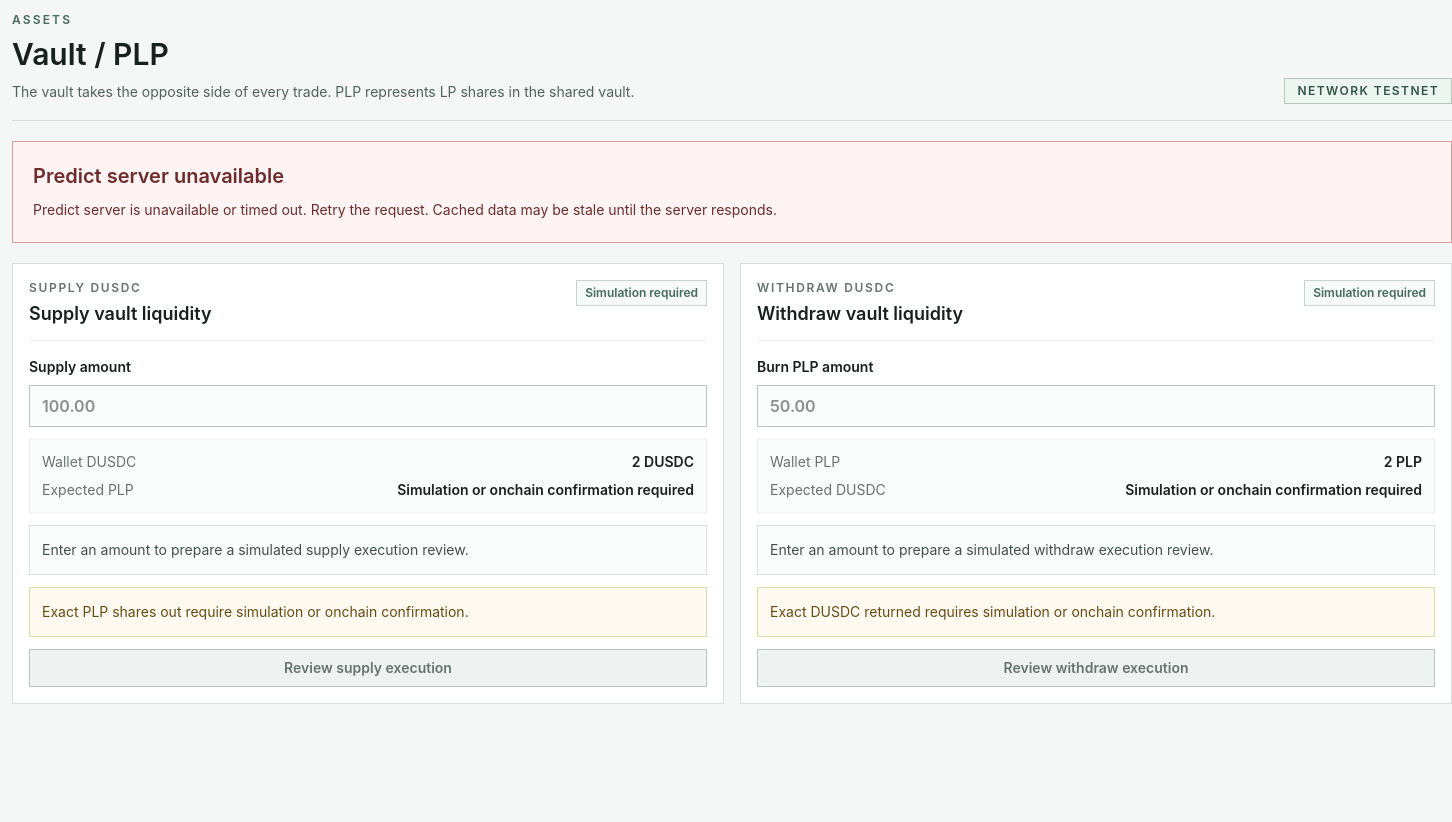
Scenario: VaultPage › blocks LP execution review when vault state is missing
Expected: the heading "Predict server unavailable" is shown, [33,164,284,188]
Type "1.5" into the field labelled "Supply amount" at (368, 406), box [29,385,707,427]
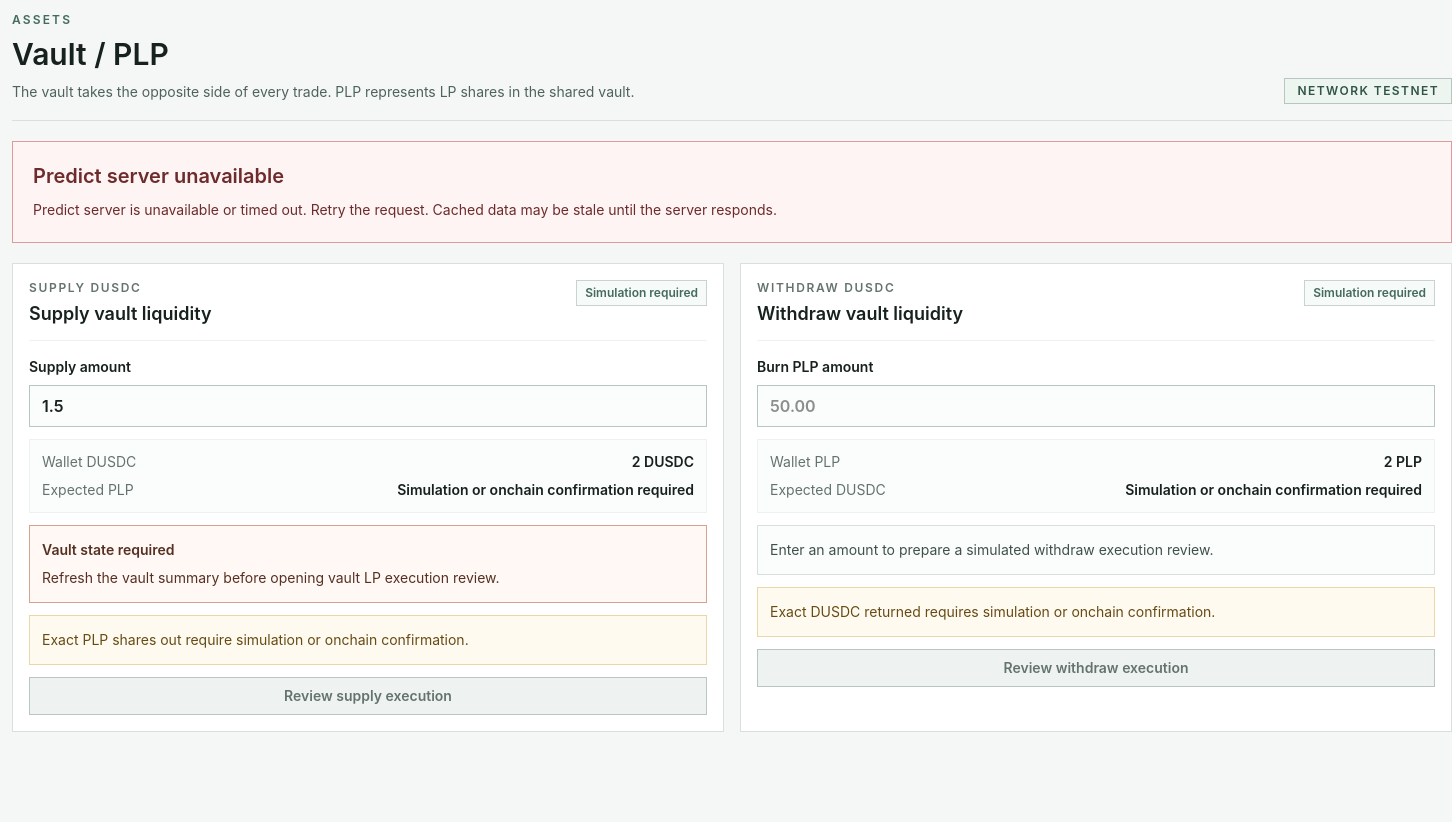
Now the text "Vault state required" is shown, box [42,541,174,558]
Now the text "Refresh the vault summary before opening vault LP execution review." is shown, box [42,569,500,586]
